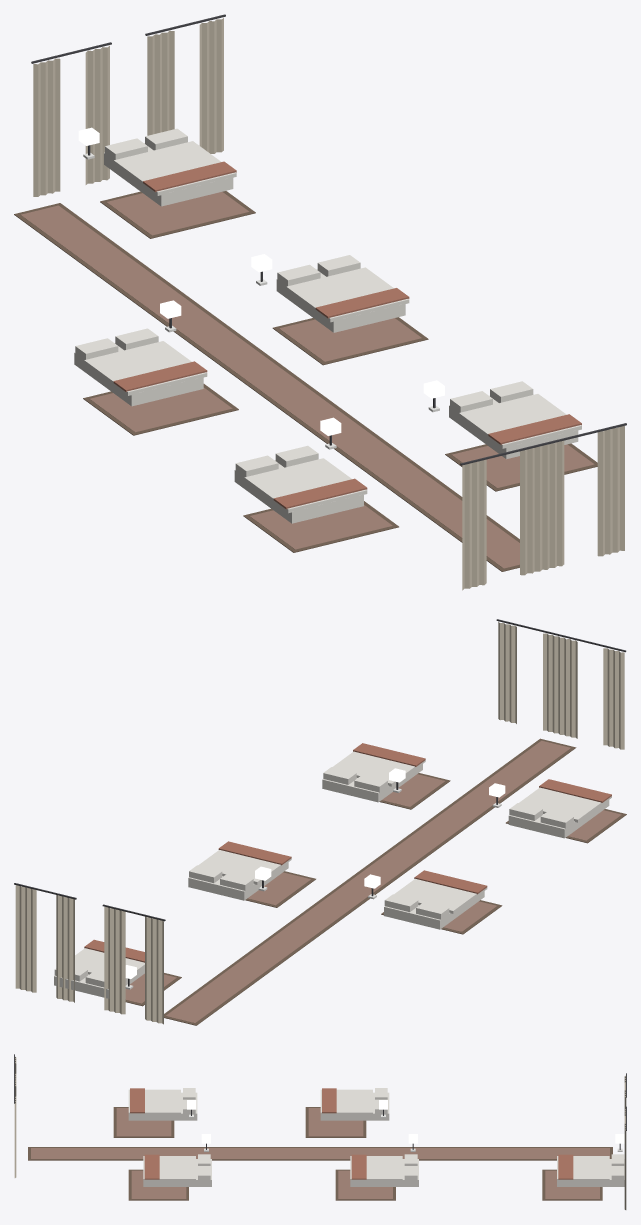
File: fine-s1.glb
3 views of the same model, one above another, from view 1: azimuth 30°, elevation 25°; view 2: azimuth 150°, elevation 25°; view 3: azimuth 270°, elevation 25° (orthographic). The views are drawn at different scales.
Visible parts, largest first — view 1: soft-s1; view 2: soft-s1; view 3: soft-s1.
Part boxes in pixels (bbox=[...]): soft-s1: bbox=[14, 14, 626, 590]; soft-s1: bbox=[14, 619, 626, 1025]; soft-s1: bbox=[14, 1054, 626, 1209].
Bounding box in the file's own units: 6.99 × 2.55 × 17.23.
